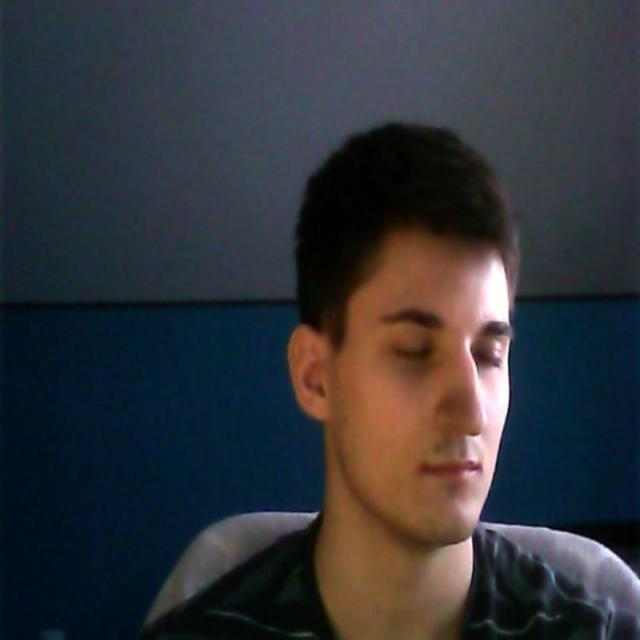Eyeclosed: (393, 332, 433, 373), (476, 340, 504, 374)
